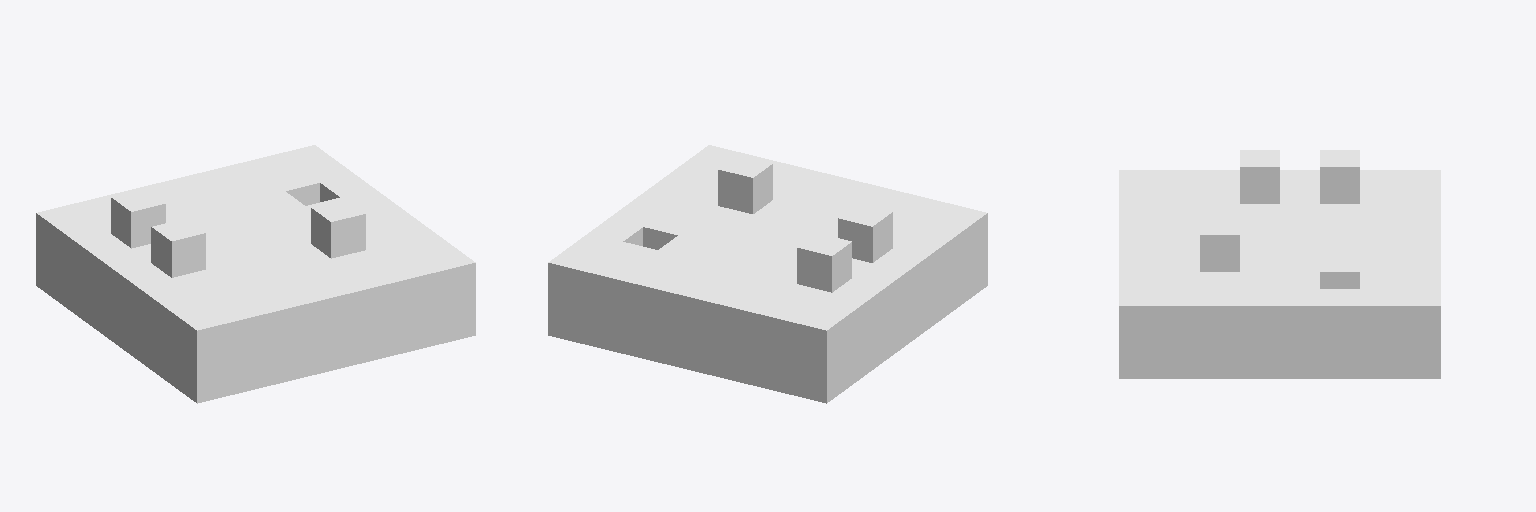
File: GreenCorall18.obj
The picture shows the model from 3 angles: view 1: azimuth 30°, elevation 25°; view 2: azimuth 150°, elevation 25°; view 3: azimuth 270°, elevation 25°; orthographic projection.
Parts seen in each view (by area): view 1: object 1; view 2: object 1; view 3: object 1.
Part boxes in pixels (left/top/right/bottom): object 1: left=36, top=145, right=475, bottom=403; object 1: left=548, top=145, right=987, bottom=403; object 1: left=1119, top=150, right=1440, bottom=378.
Bounding box in the file's own units: 0.8 × 0.3 × 0.8.